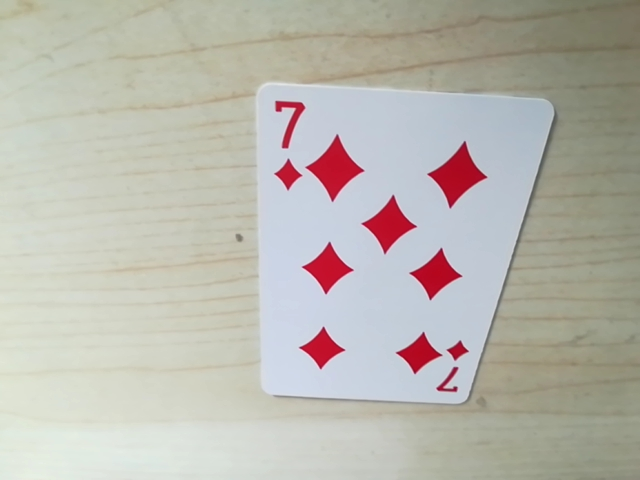fk 7: (426, 345, 473, 401), (265, 89, 311, 128)
